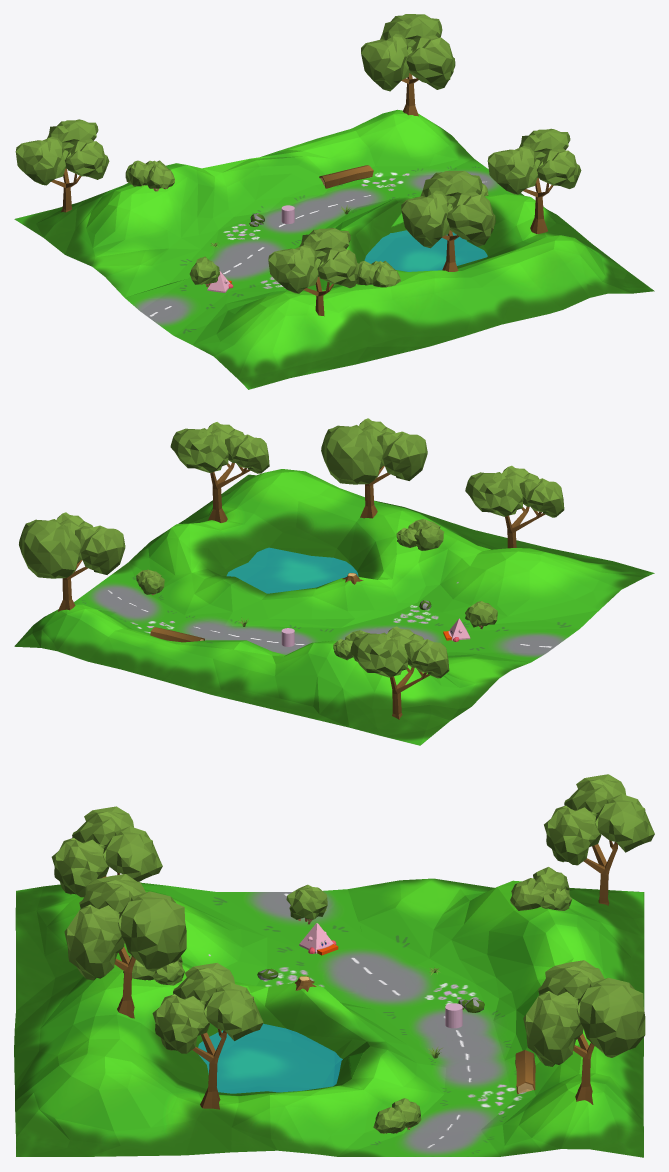
File: forgottenlandmodel.glb
3 renders of one model, top to bottom at view 1: azimuth 30°, elevation 25°; view 2: azimuth 150°, elevation 25°; view 3: azimuth 270°, elevation 25°, orthographic. The views are drawn at different scales.
Parts seen in each view (by area): view 1: Grass, Tree_average_lush, Tree_average_lush.001, Tree_average_regular, Tree_average_regular.002, Tree_average_regular.001, River, Bush_group_big, Bush_group_big.001, Log_big_regular, Bush_average; view 2: Grass, Tree_average_lush, Tree_average_lush.001, Tree_average_regular, Tree_average_regular.002, Tree_average_regular.001, River, Bush_group_big.001, Bush_average, Bush_group_average, Log_big_regular; view 3: Grass, Tree_average_lush.001, Tree_average_lush, Tree_average_regular, Tree_average_regular.002, River, Tree_average_regular.001, Bush_group_big, Bush_group_average, Bush_average, Bush_group_big.001, Log_big_regular.
Boxes of the visible parts, x1=… form: Grass: x1=14, y1=109, x2=654, y2=389; Tree_average_lush: x1=401, y1=171, x2=495, y2=271; Tree_average_lush.001: x1=361, y1=14, x2=455, y2=116; Tree_average_regular: x1=487, y1=128, x2=581, y2=233; Tree_average_regular.002: x1=15, y1=119, x2=109, y2=212; Tree_average_regular.001: x1=268, y1=227, x2=361, y2=316; River: x1=364, y1=230, x2=487, y2=271; Bush_group_big: x1=125, y1=160, x2=174, y2=191; Bush_group_big.001: x1=356, y1=261, x2=400, y2=287; Log_big_regular: x1=319, y1=165, x2=373, y2=188; Bush_average: x1=189, y1=256, x2=219, y2=287; Grass: x1=14, y1=469, x2=654, y2=745; Tree_average_lush: x1=321, y1=418, x2=427, y2=518; Tree_average_lush.001: x1=19, y1=512, x2=125, y2=611; Tree_average_regular: x1=170, y1=422, x2=269, y2=522; Tree_average_regular.002: x1=350, y1=626, x2=449, y2=719; Tree_average_regular.001: x1=465, y1=465, x2=564, y2=548; River: x1=227, y1=547, x2=358, y2=593; Bush_group_big.001: x1=396, y1=519, x2=444, y2=550; Bush_average: x1=465, y1=601, x2=497, y2=628; Bush_group_average: x1=136, y1=569, x2=164, y2=595; Log_big_regular: x1=150, y1=627, x2=204, y2=642; Grass: x1=14, y1=878, x2=644, y2=1157; Tree_average_lush.001: x1=523, y1=960, x2=645, y2=1104; Tree_average_lush: x1=64, y1=874, x2=186, y2=1018; Tree_average_regular: x1=152, y1=962, x2=263, y2=1109; Tree_average_regular.002: x1=544, y1=774, x2=654, y2=905; River: x1=198, y1=1023, x2=342, y2=1093; Tree_average_regular.001: x1=51, y1=806, x2=162, y2=897; Bush_group_big: x1=510, y1=867, x2=571, y2=910; Bush_group_average: x1=373, y1=1098, x2=421, y2=1133; Bush_average: x1=286, y1=884, x2=327, y2=924; Bush_group_big.001: x1=123, y1=955, x2=184, y2=985; Log_big_regular: x1=515, y1=1050, x2=535, y2=1093.
Bounding box in the file's own units: 52.27 × 14.39 × 51.02.
11 materials, 7 textured.
